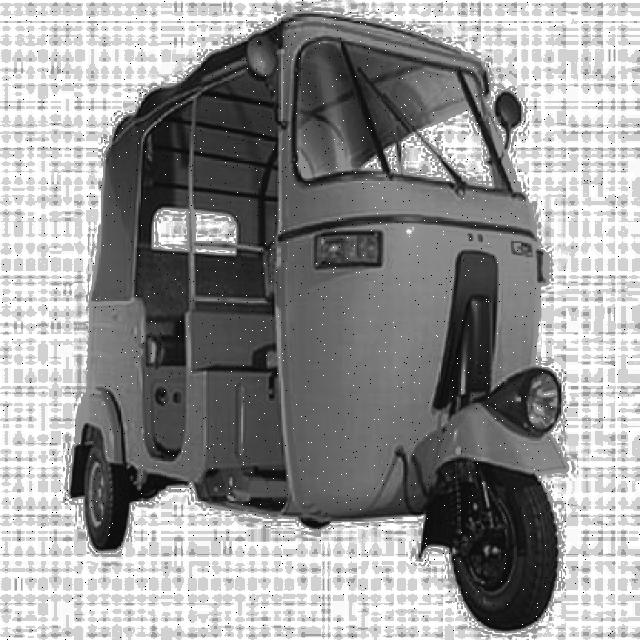Auto-Rickshaw: (69, 11, 566, 635)
